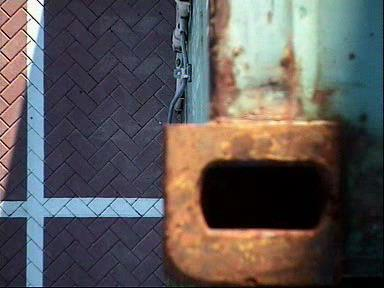groundmarker_2: (185, 1, 256, 103)
